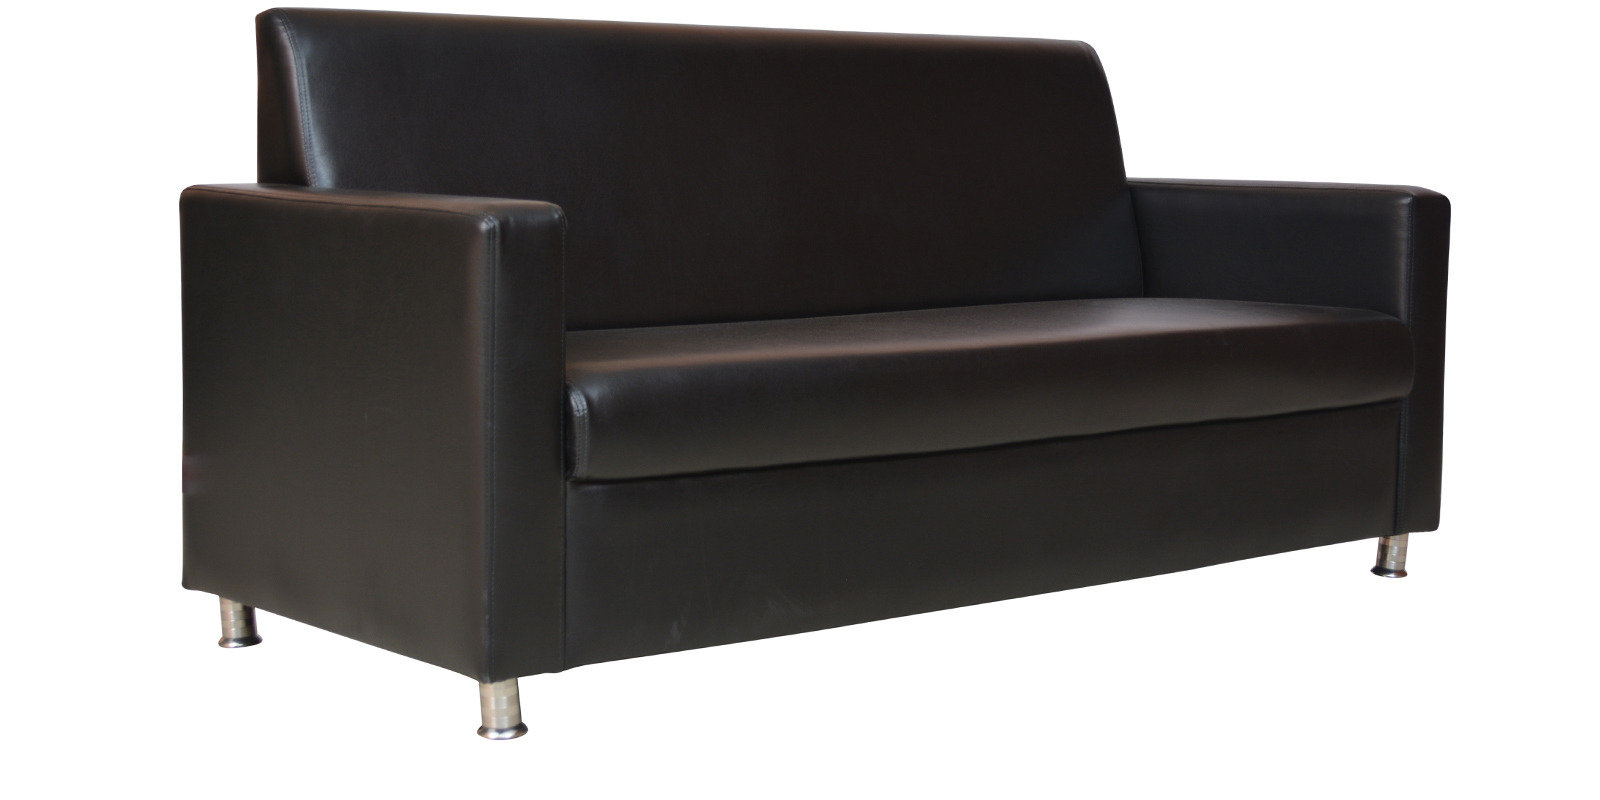Felix Three Seater Sofa in Black Leatherette by Crystal Furnitech: (170, 5, 1473, 769)
